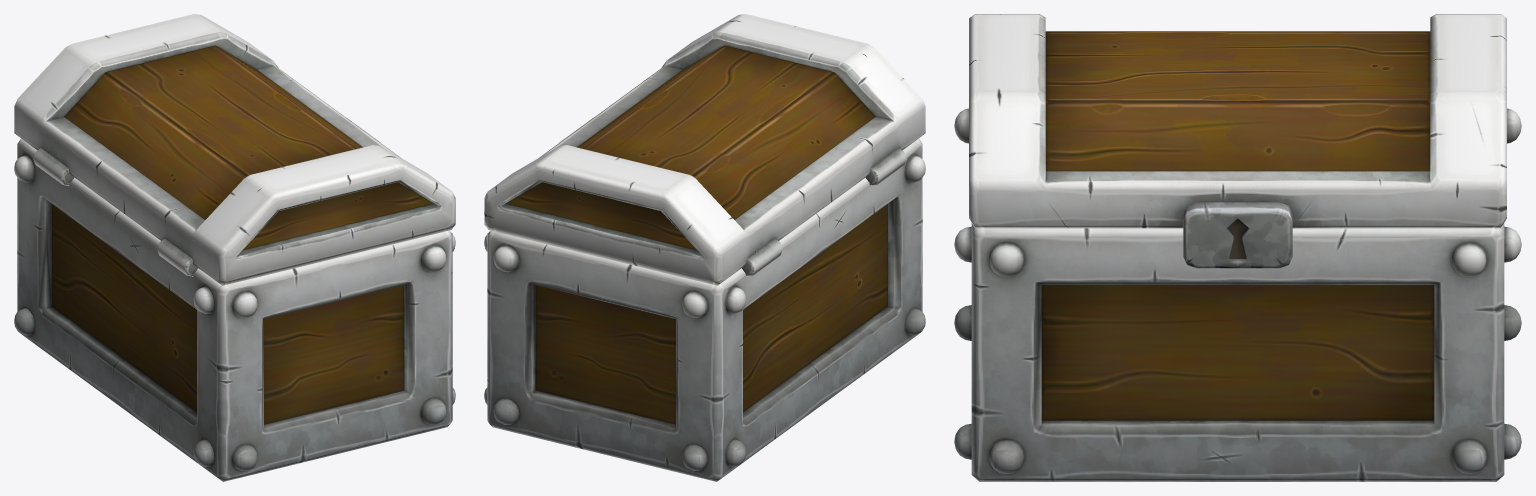
File: SM_Small_Treasure_Chest.fbx
3 renders of one model, left to right at view 1: azimuth 30°, elevation 25°; view 2: azimuth 150°, elevation 25°; view 3: azimuth 270°, elevation 25°, orthographic. The views are drawn at different scales.
Visible parts, largest first — view 1: SM_Small_Treasure_Chest_LOD0; view 2: SM_Small_Treasure_Chest_LOD0; view 3: SM_Small_Treasure_Chest_LOD0.
Part boxes in pixels (<box>): SM_Small_Treasure_Chest_LOD0: <box>14,14,455,481</box>; SM_Small_Treasure_Chest_LOD0: <box>484,14,925,481</box>; SM_Small_Treasure_Chest_LOD0: <box>954,14,1521,481</box>.
Bounding box in the file's own units: 42.72 × 62.75 × 43.66.
Materials: 2 (2 with a texture image).
